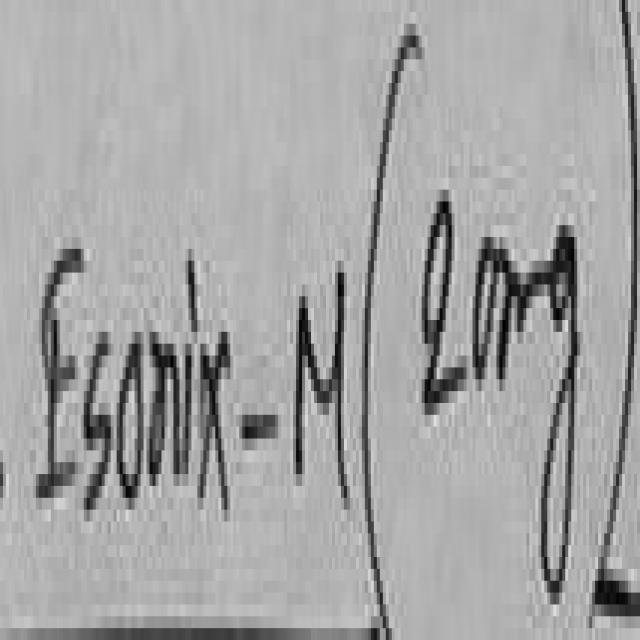0: (476, 237, 502, 379)
2: (419, 182, 465, 428)
E: (36, 249, 84, 498)
M: (296, 273, 350, 510)
g: (544, 225, 580, 604)
i: (182, 344, 194, 474), (188, 261, 197, 332)
m: (495, 250, 546, 386)
n: (150, 332, 179, 486)
o: (117, 344, 144, 498)
s: (84, 332, 111, 510)
x: (200, 332, 230, 510)
